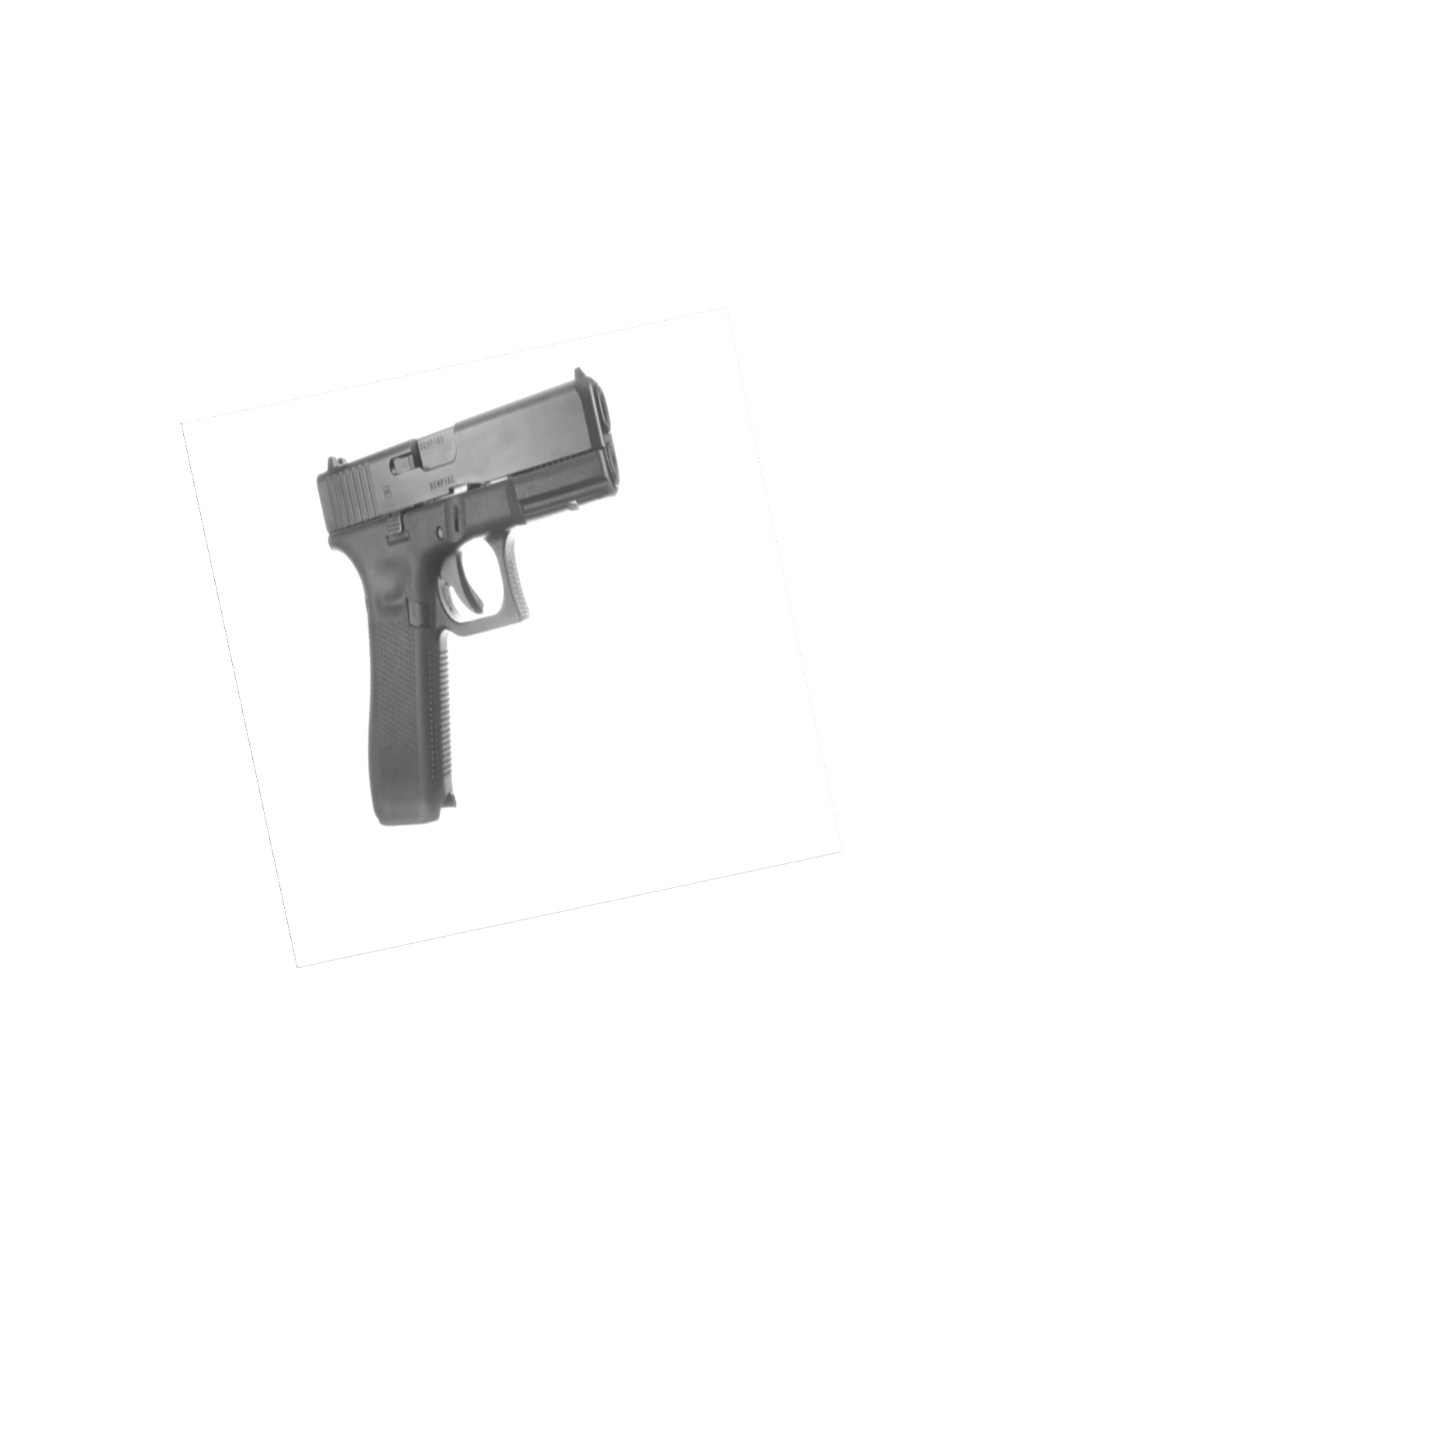gun: (300, 366, 658, 834)
